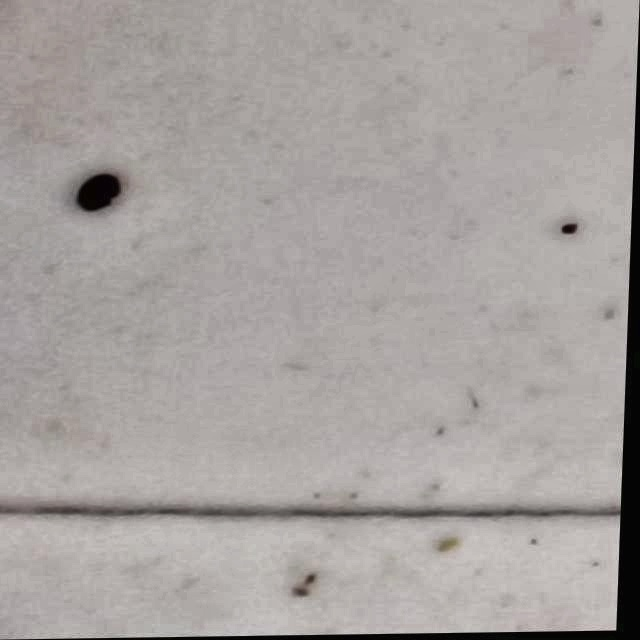varroa: (74, 173, 127, 216)
